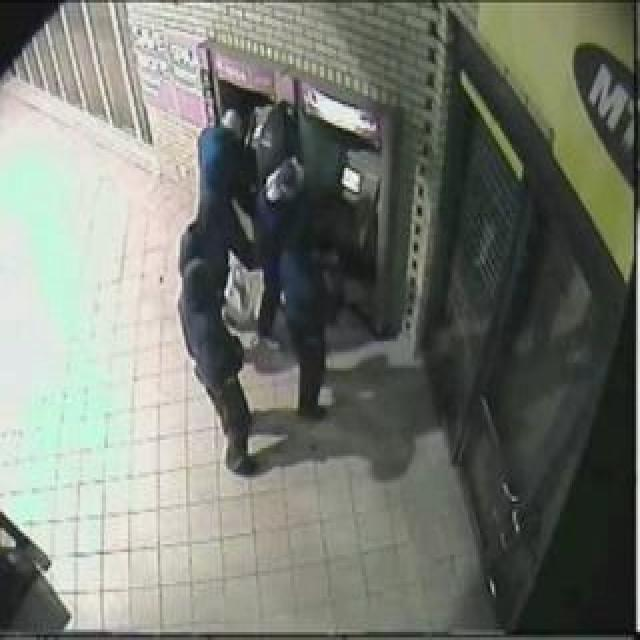thief: (177, 101, 329, 353)
